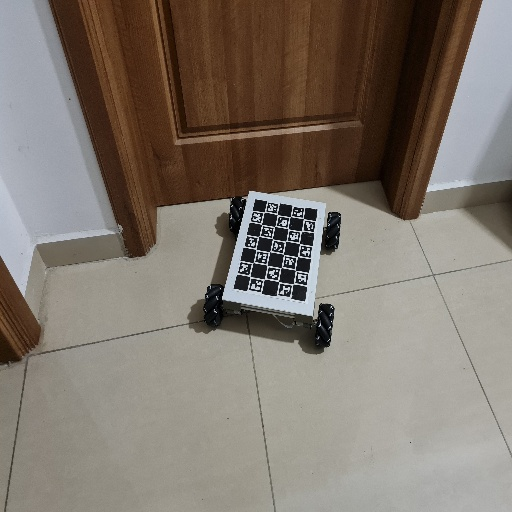Omniwheel: (203, 190, 343, 352)
